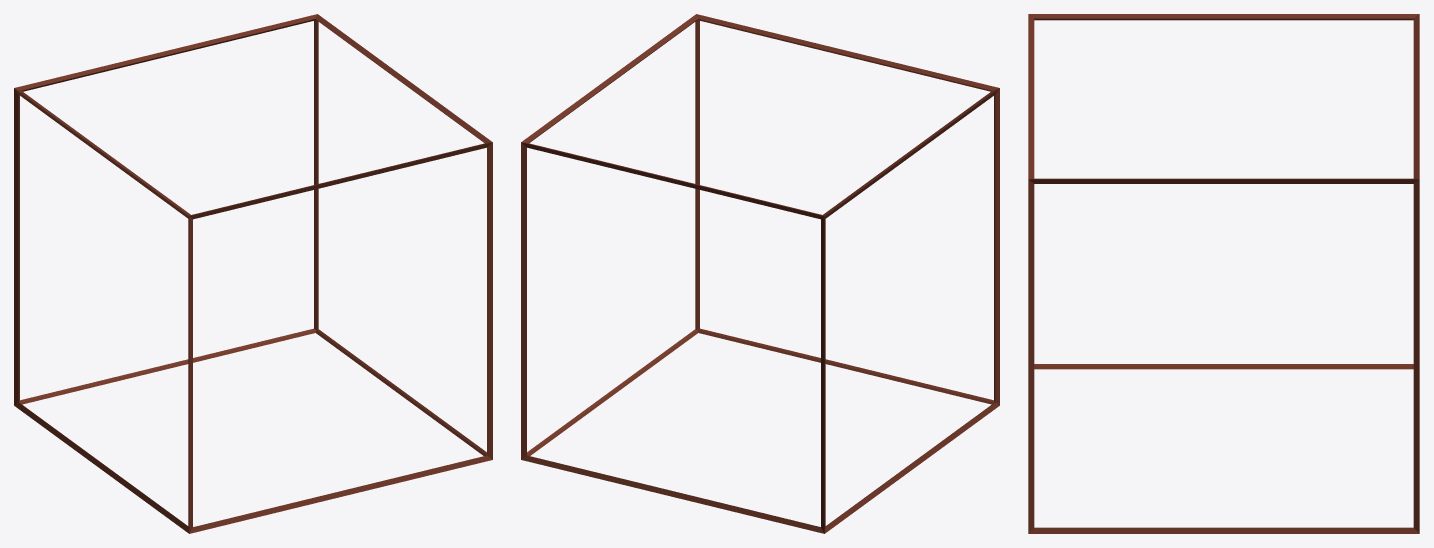
Rendered from Hexaedro_wireframe.glb.
3 renders of one model, left to right at view 1: azimuth 30°, elevation 25°; view 2: azimuth 150°, elevation 25°; view 3: azimuth 270°, elevation 25°, orthographic. The views are drawn at different scales.
Visible parts, largest first — view 1: Cube.001; view 2: Cube.001; view 3: Cube.001.
Part boxes in pixels (<box>): Cube.001: <box>14,14,492,533</box>; Cube.001: <box>521,14,999,533</box>; Cube.001: <box>1028,14,1419,533</box>.
Bounding box in the file's own units: 2.02 × 2.02 × 2.02.
